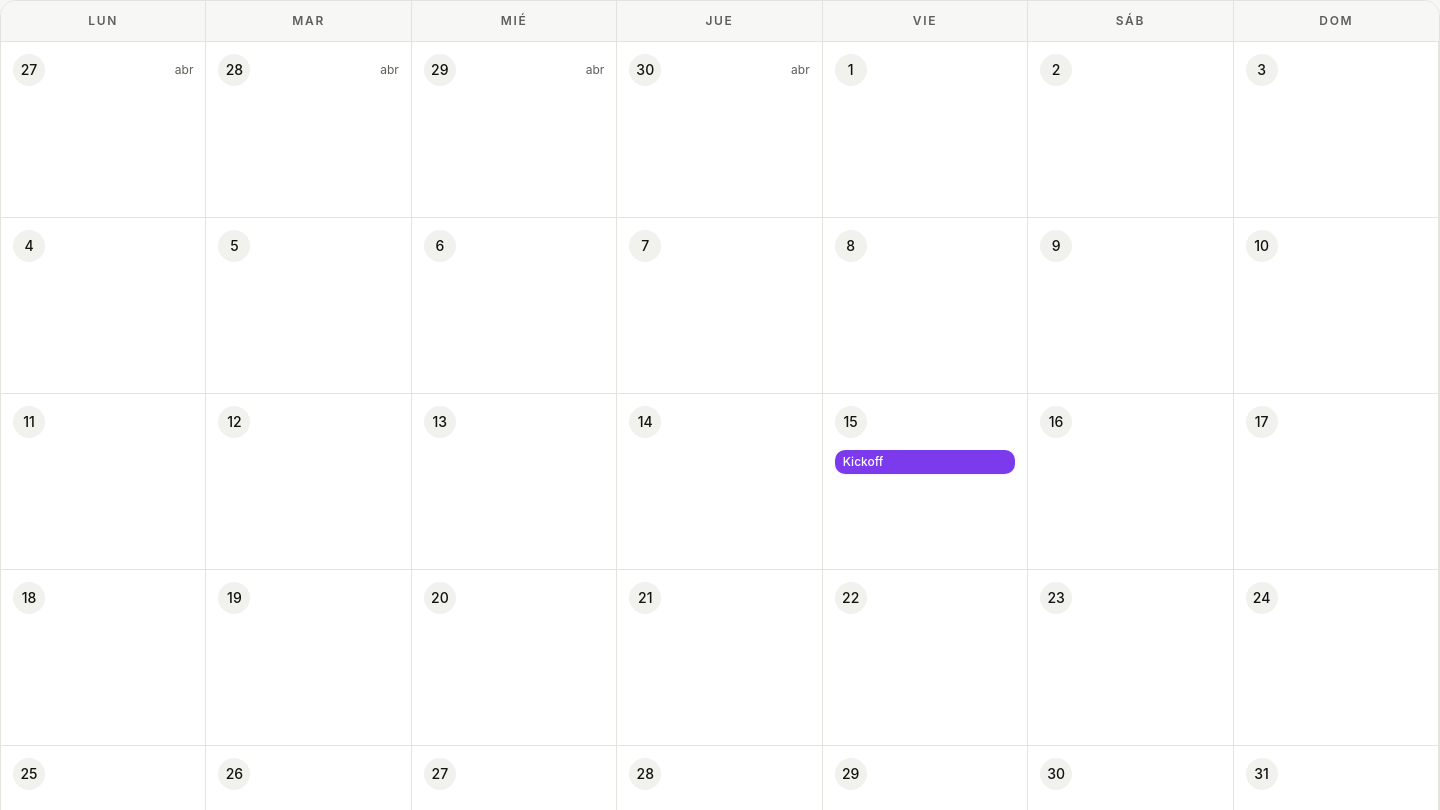
Scenario: CalendarMonthView › abre creación con la fecha pre-rellenada al pulsar una celda vacía
Click the button "16": (1131, 482) [1028,394,1234,570]
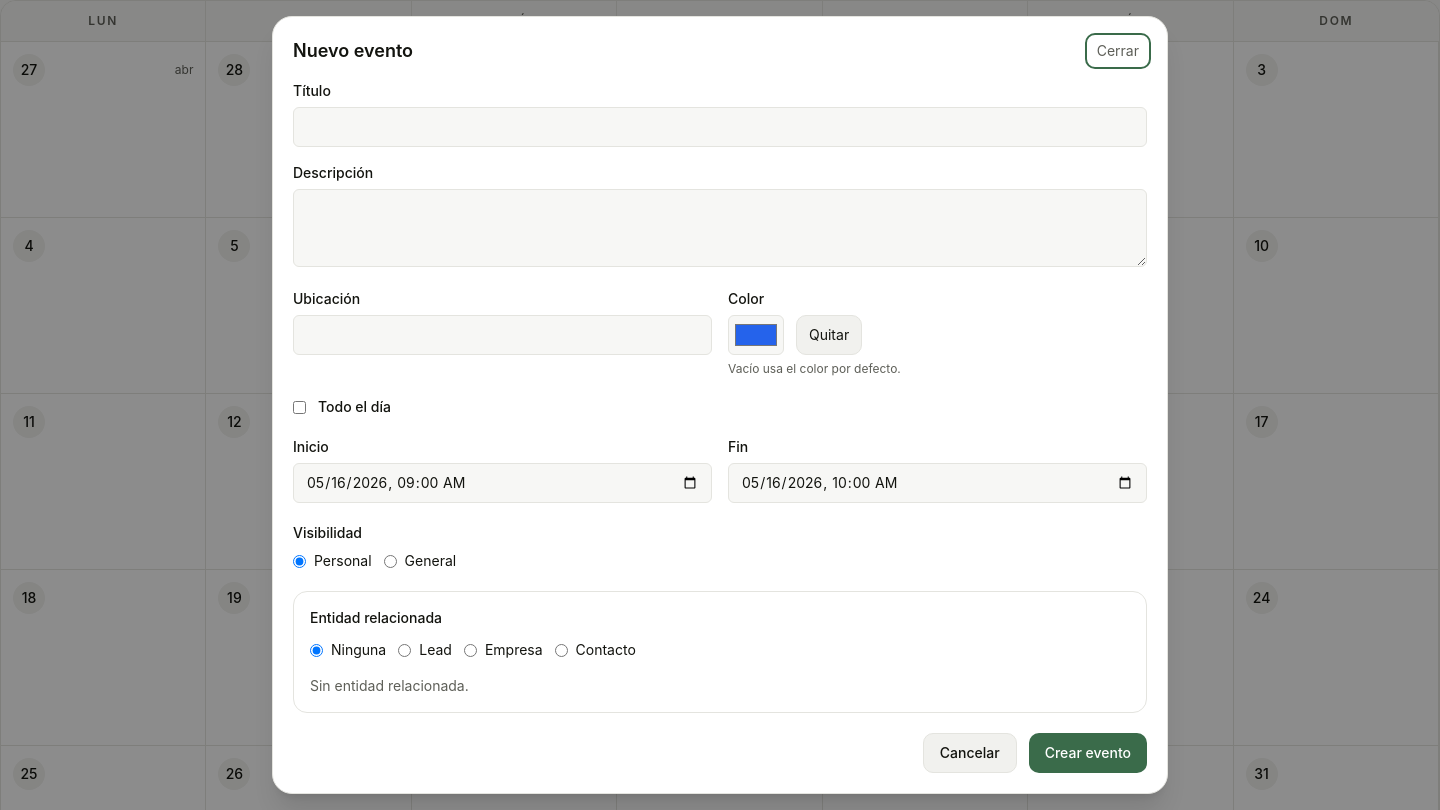
Now the heading "Nuevo evento" is shown, box [293,37,413,65]
Now the field labelled "Inicio" holds "2026-05-16T09:00", box [293,463,712,503]
